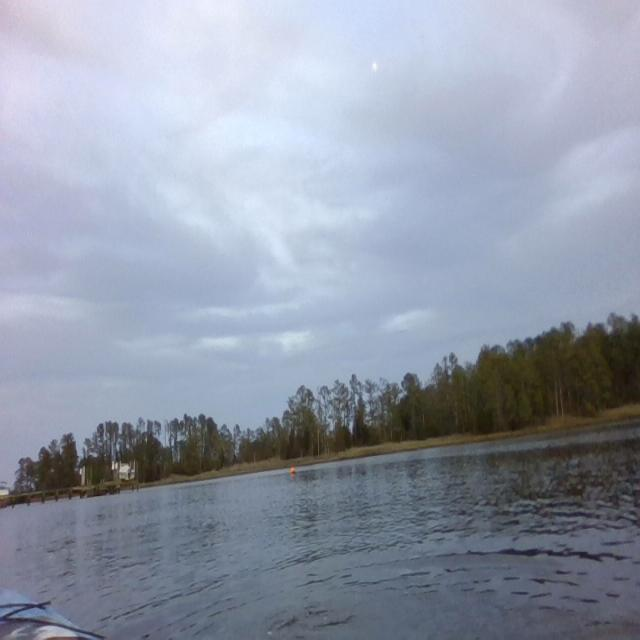Buoy: (289, 464, 296, 477)
